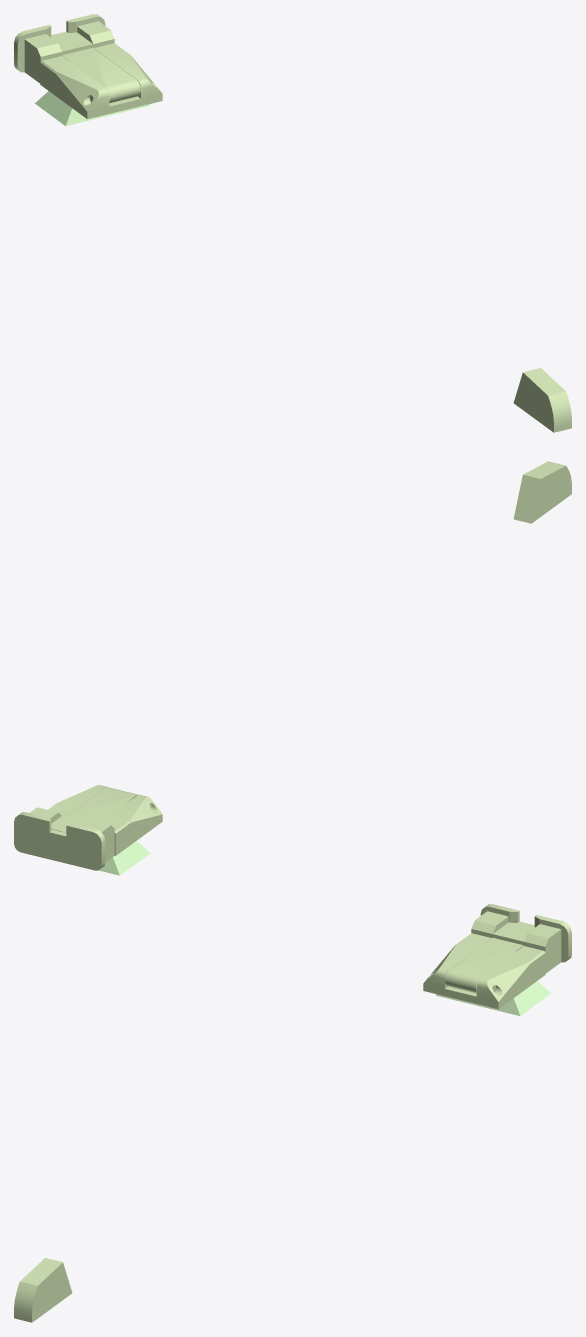
The model's file is usp alt sight.fbx.
3 views of the same model, one above another, from view 1: azimuth 30°, elevation 25°; view 2: azimuth 150°, elevation 25°; view 3: azimuth 330°, elevation 25° (orthographic).
Parts seen in each view (by area): view 1: REAR, FRONT; view 2: REAR, FRONT; view 3: REAR, FRONT.
Part boxes in pixels (bbox=[...]): REAR: bbox=[14, 14, 162, 126]; FRONT: bbox=[513, 368, 571, 432]; REAR: bbox=[14, 785, 162, 875]; FRONT: bbox=[513, 461, 571, 523]; REAR: bbox=[423, 904, 571, 1016]; FRONT: bbox=[14, 1258, 72, 1322].
Size of the model in its own units: 71.36 by 43.79 by 712.
